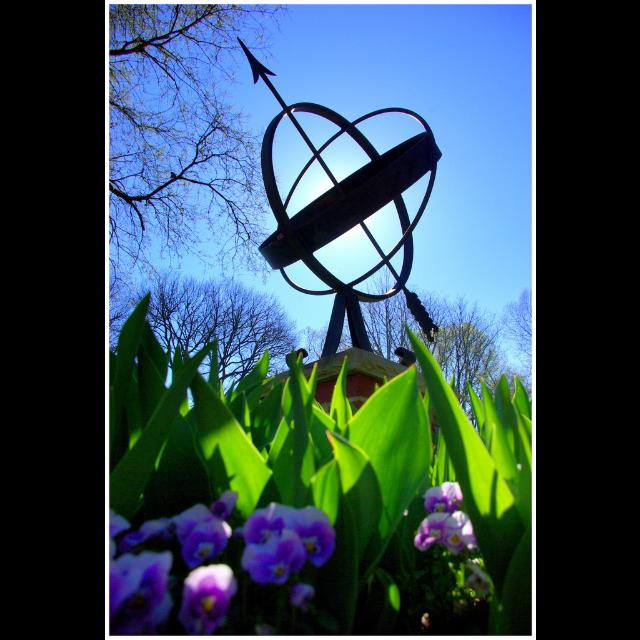Flower: (105, 495, 238, 633), (230, 500, 344, 592), (407, 479, 479, 556)
